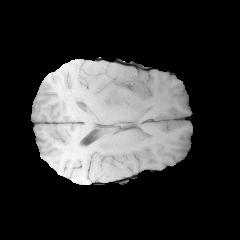glioma: (78, 74, 137, 105)
